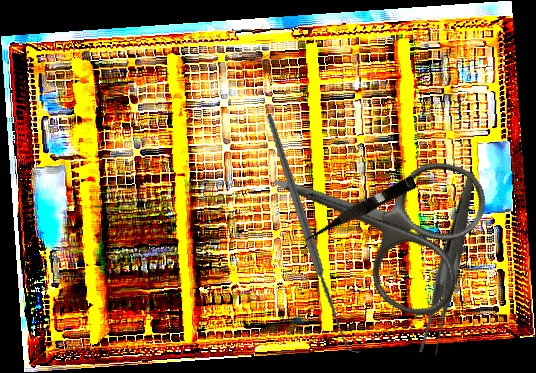Dressing Forceps: (374, 171, 529, 361)
Hook Surgical: (223, 113, 404, 354)
Iris Scissors: (247, 107, 496, 326)
Micro Scissor: (297, 173, 418, 247)
